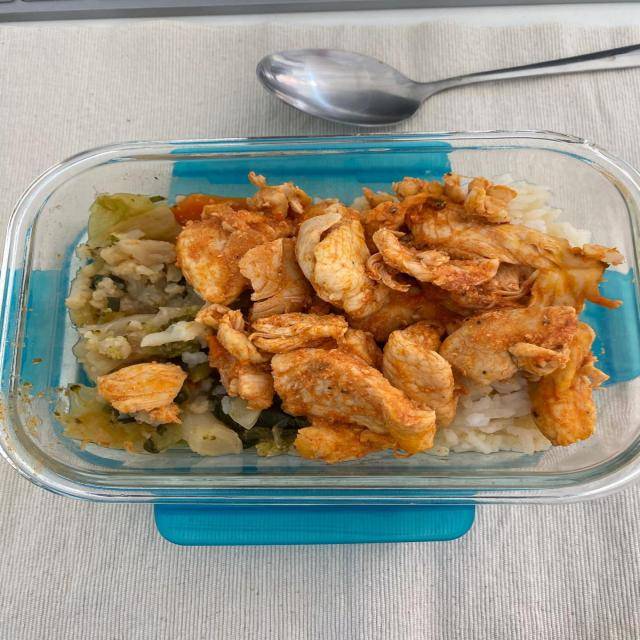chicken: (171, 172, 622, 462), (97, 362, 187, 425)
rice: (0, 131, 639, 503), (428, 377, 549, 457), (507, 181, 591, 244)
soupbowl: (0, 130, 639, 504)
spoon: (256, 44, 639, 126)
vegetables: (54, 194, 308, 456)
